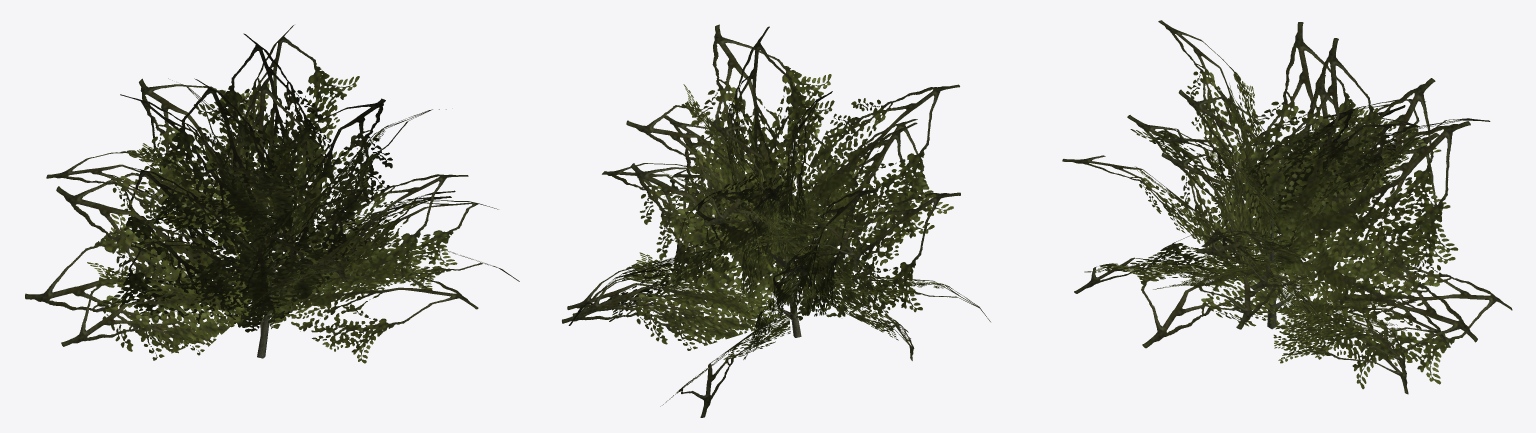
The model's file is bush6.glb.
3 views of the same model, side by side, from view 1: azimuth 30°, elevation 25°; view 2: azimuth 150°, elevation 25°; view 3: azimuth 270°, elevation 25° (orthographic). The views are drawn at different scales.
Parts seen in each view (by area): view 1: Bush6; view 2: Bush6; view 3: Bush6.
Boxes of the visible parts, <box> form: Bush6: <box>25,25,519,363</box>; Bush6: <box>562,24,990,417</box>; Bush6: <box>1062,20,1512,394</box>.
Size of the model in its own units: 9.53 by 7.28 by 8.95.
Materials: 2 (2 with a texture image).
